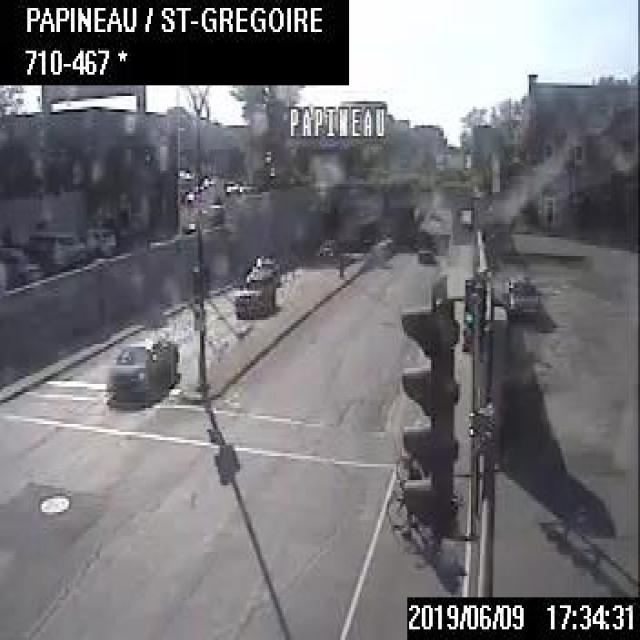vehicle: (108, 333, 176, 392), (231, 266, 276, 314), (28, 230, 86, 267), (503, 273, 542, 322), (0, 244, 40, 281), (250, 254, 278, 283), (416, 239, 433, 260)
